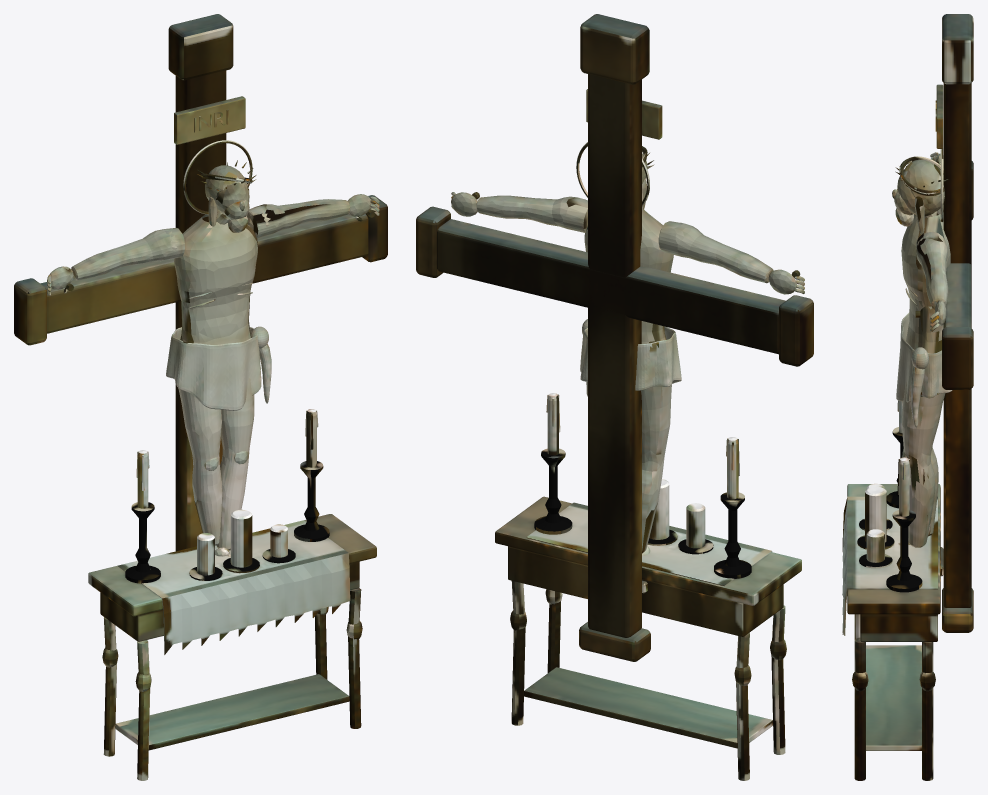
Rendered from faith_gallery.glb.
The picture shows the model from 3 angles, left to right: view 1: azimuth 30°, elevation 25°; view 2: azimuth 150°, elevation 25°; view 3: azimuth 270°, elevation 25°; orthographic projection. The views are drawn at different scales.
Parts seen in each view (by area): view 1: CHUNK_faith_gallery; view 2: CHUNK_faith_gallery; view 3: CHUNK_faith_gallery.
Boxes of the visible parts, left/top/right/bottom form: CHUNK_faith_gallery: left=14, top=14, right=387, bottom=780; CHUNK_faith_gallery: left=416, top=14, right=813, bottom=780; CHUNK_faith_gallery: left=842, top=14, right=973, bottom=780.
Bounding box in the file's own units: 1.63 × 2.99 × 0.5062.
Materials: 1 (1 with a texture image).
